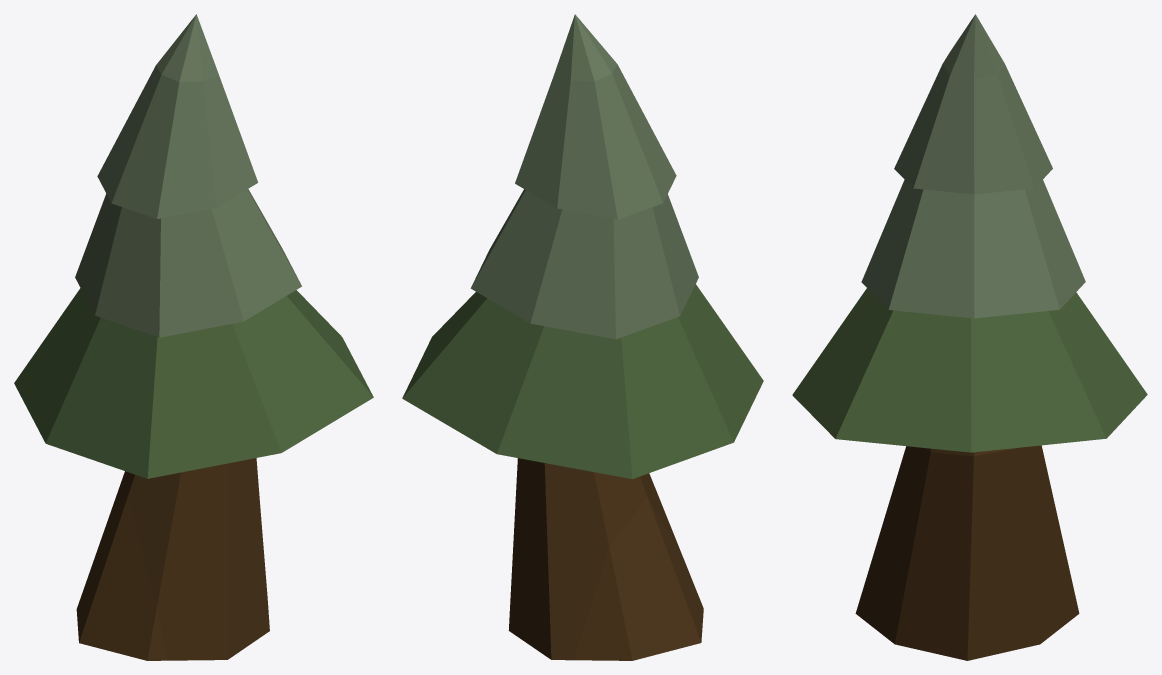
Rendered from tree4.fbx.
3 renders of one model, left to right at view 1: azimuth 30°, elevation 25°; view 2: azimuth 150°, elevation 25°; view 3: azimuth 270°, elevation 25°, orthographic. The views are drawn at different scales.
Parts seen in each view (by area): view 1: Plane; view 2: Plane; view 3: Plane.
Part boxes in pixels (x1,y1,x2,y2): Plane: (14, 14, 373, 660); Plane: (402, 14, 763, 660); Plane: (792, 14, 1147, 660).
Bounding box in the file's own units: 530 × 1014 × 533.
